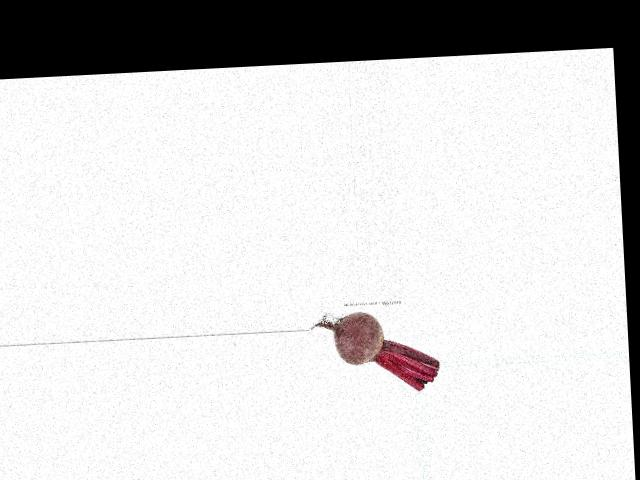beet: (310, 308, 441, 395)
